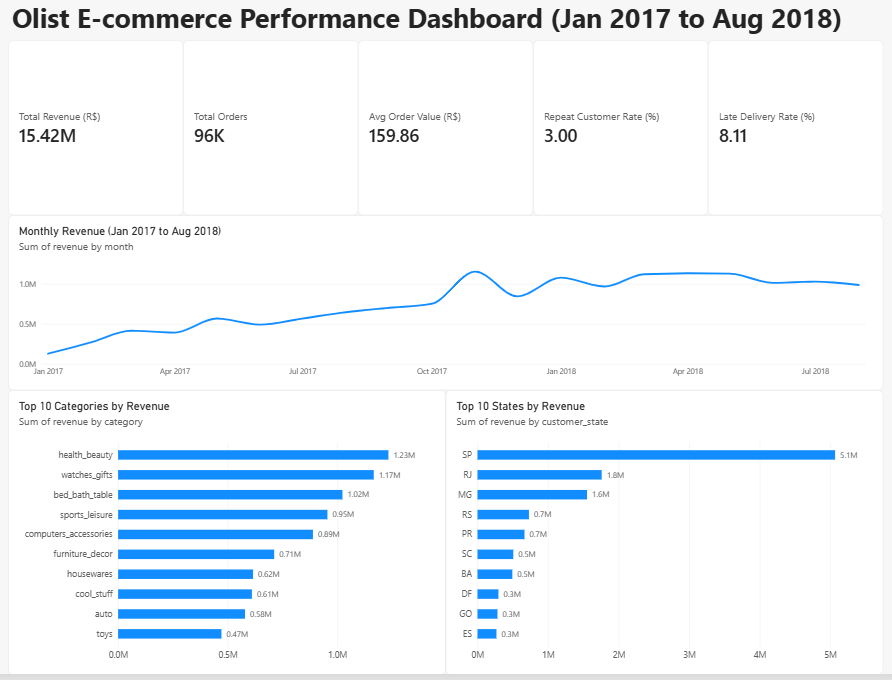

What the dashboard file says about the page in this screenshot:
{"tool":"powerbi","page":{"name":"Page 1","canvas":[1920,1080],"ordinal":0},"visuals":[{"type":"lineChart","title":"Monthly Revenue (Jan 2017 to Aug 2018)","fields":{"Category":["monthly.month"],"Y":["Sum(monthly.revenue)"]},"box":[290,345,1400,280],"z":0},{"type":"cardVisual","fields":{"Data":["Sum(kpi.total_revenue)"]},"box":[290,66,280,280],"z":1},{"type":"cardVisual","fields":{"Data":["Sum(kpi.avg_order_value)"]},"box":[850,65,280,280],"z":2},{"type":"cardVisual","fields":{"Data":["Sum(kpi.late_pct)"]},"box":[1410,66,280,280],"z":3},{"type":"cardVisual","fields":{"Data":["Sum(kpi.repeat_rate_pct)"]},"box":[1130,66,280,280],"z":4},{"type":"cardVisual","fields":{"Data":["Sum(kpi.total_orders)"]},"box":[570,66,280,280],"z":5},{"type":"clusteredBarChart","title":"Top 10 Categories by Revenue","fields":{"Category":["categories.category"],"Y":["Sum(categories.revenue)"]},"box":[290,625,700,455],"z":6},{"type":"clusteredBarChart","title":"Top 10 States by Revenue","fields":{"Category":["states.customer_state"],"Y":["Sum(states.revenue)"]},"box":[990,625,700,455],"z":7},{"type":"textbox","box":[0,0,1920,65],"z":8}]}

Visuals, with their boxes on the page's 1920x1080 design canvas (x1, y1, x2, y2). These are canvas units, not pixel positions in the 892x680 screenshot, which may show the page scaled, cropped or inside an application window:
"Monthly Revenue (Jan 2017 to Aug 2018)" lineChart: pyautogui.locateOnScreen(290, 345, 1690, 625)
cardVisual - Sum(kpi.total_revenue): pyautogui.locateOnScreen(290, 66, 570, 346)
cardVisual - Sum(kpi.avg_order_value): pyautogui.locateOnScreen(850, 65, 1130, 345)
cardVisual - Sum(kpi.late_pct): pyautogui.locateOnScreen(1410, 66, 1690, 346)
cardVisual - Sum(kpi.repeat_rate_pct): pyautogui.locateOnScreen(1130, 66, 1410, 346)
cardVisual - Sum(kpi.total_orders): pyautogui.locateOnScreen(570, 66, 850, 346)
"Top 10 Categories by Revenue" clusteredBarChart: pyautogui.locateOnScreen(290, 625, 990, 1080)
"Top 10 States by Revenue" clusteredBarChart: pyautogui.locateOnScreen(990, 625, 1690, 1080)
textbox: pyautogui.locateOnScreen(0, 0, 1920, 65)
